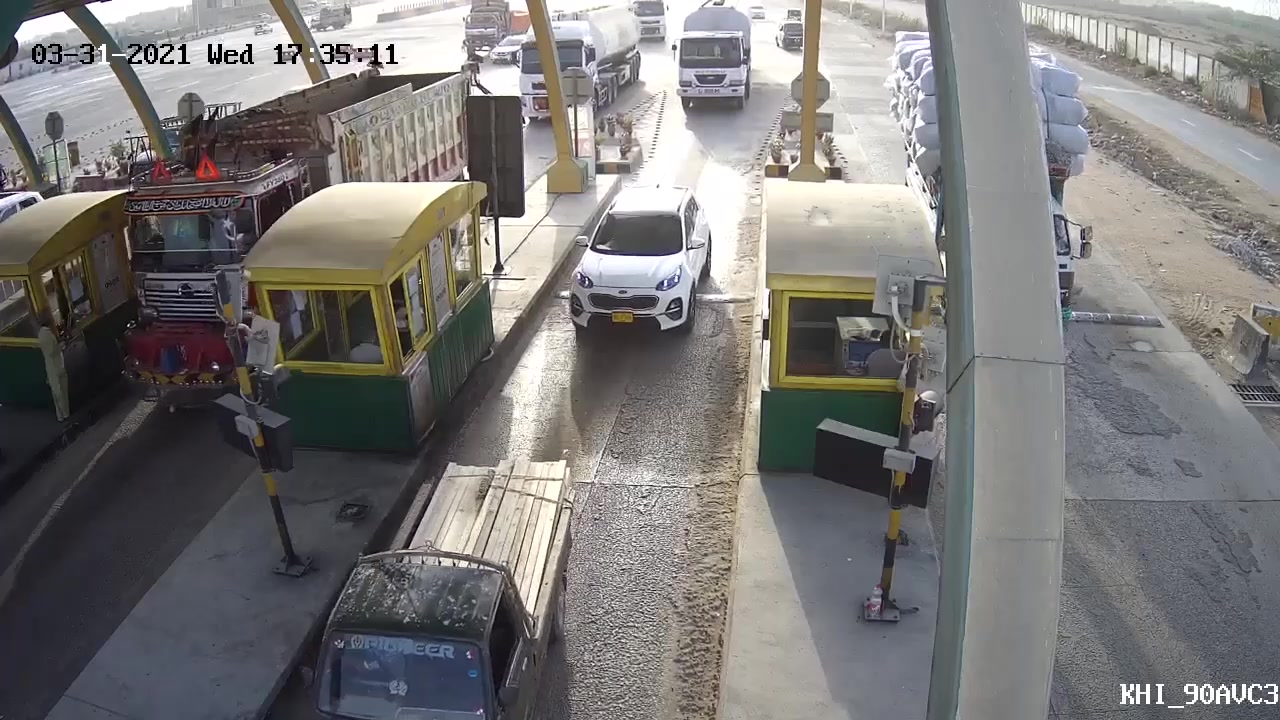F1: (553, 172, 720, 353)
